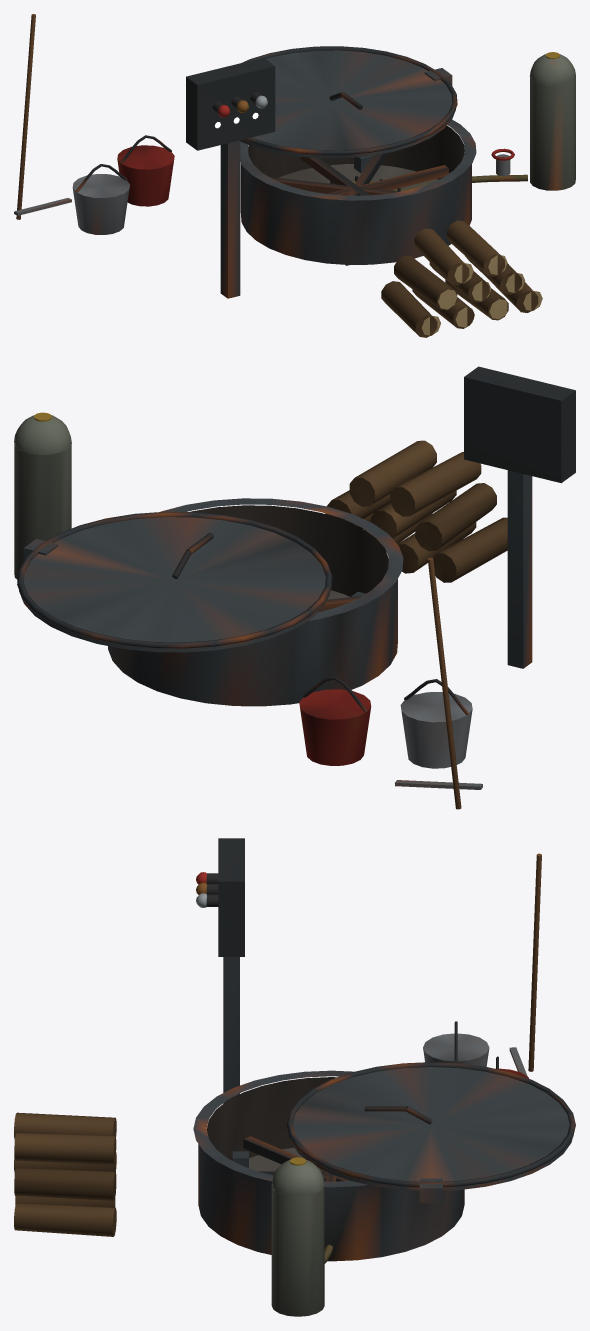
File: fire-pit.glb
3 renders of one model, top to bottom at view 1: azimuth 30°, elevation 25°; view 2: azimuth 150°, elevation 25°; view 3: azimuth 270°, elevation 25°, orthographic. The views are drawn at different scales.
Visible parts, largest first — view 1: pit, lid, logs; view 2: pit, lid, logs; view 3: pit, lid, logs.
Part boxes in pixels (<box>): pit: <box>14,14,575,298</box>; lid: <box>240,46,457,158</box>; logs: <box>381,220,542,337</box>; pit: <box>14,366,575,809</box>; lid: <box>17,511,332,652</box>; logs: <box>325,440,507,582</box>; pit: <box>193,838,541,1316</box>; lid: <box>286,1062,575,1203</box>; logs: <box>14,1112,116,1236</box>.
Size of the model in its own units: 3.7 by 1.7 by 3.38.
